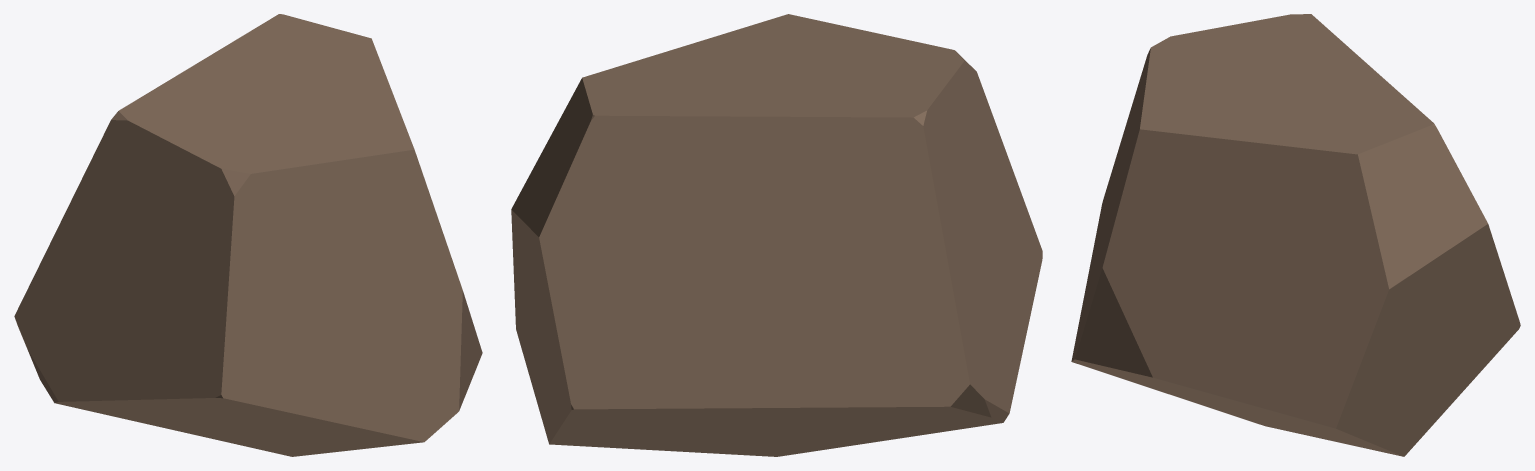
File: ForestRock4.fbx
3 renders of one model, left to right at view 1: azimuth 30°, elevation 25°; view 2: azimuth 150°, elevation 25°; view 3: azimuth 270°, elevation 25°, orthographic. The views are drawn at different scales.
Parts seen in each view (by area): view 1: ForestRock4; view 2: ForestRock4; view 3: ForestRock4.
Part boxes in pixels (x1,y1,x2,y2): ForestRock4: [14, 14, 482, 456]; ForestRock4: [511, 14, 1042, 456]; ForestRock4: [1071, 14, 1520, 456].
Bounding box in the file's own units: 282 × 230 × 272.
